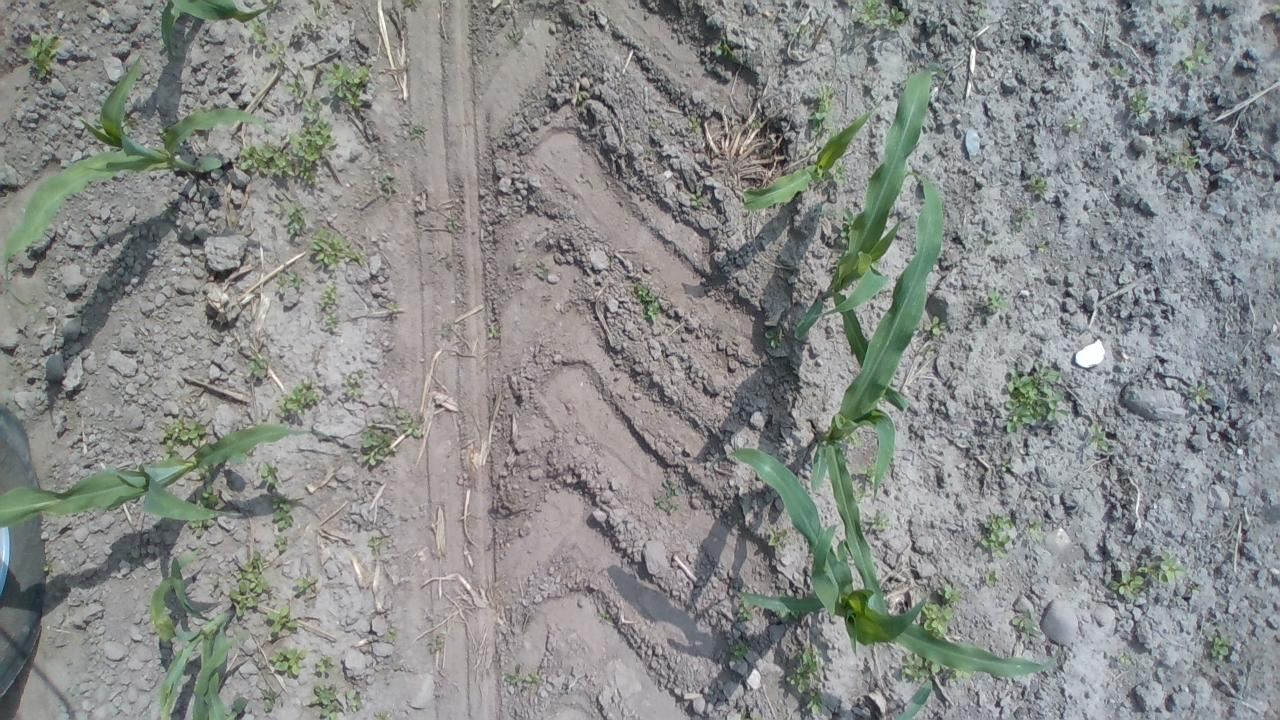Maize: (728, 448, 1064, 678), (0, 49, 269, 278), (811, 177, 946, 610), (797, 68, 934, 412), (1, 420, 350, 528), (150, 553, 249, 720), (739, 96, 882, 211), (159, 0, 268, 55), (209, 670, 247, 720), (895, 672, 934, 720)
Weeds: (1002, 363, 1069, 428), (289, 119, 337, 186), (229, 550, 272, 618), (307, 225, 366, 267), (320, 60, 370, 106), (237, 141, 292, 179), (161, 417, 208, 461), (785, 644, 824, 694), (24, 31, 62, 82), (1136, 551, 1188, 584), (278, 378, 320, 418), (854, 0, 906, 32), (979, 514, 1016, 558), (307, 679, 343, 720), (920, 602, 954, 642), (268, 646, 308, 679), (808, 86, 835, 132), (900, 652, 940, 682), (361, 431, 396, 465), (267, 606, 299, 640), (634, 283, 662, 321), (1108, 573, 1146, 601), (1168, 138, 1200, 169), (834, 206, 856, 248), (1011, 611, 1040, 640), (1182, 42, 1212, 70), (655, 480, 679, 514), (341, 368, 368, 396), (398, 407, 422, 438), (271, 496, 294, 528), (1086, 423, 1110, 452), (264, 38, 290, 64), (286, 201, 306, 234), (924, 315, 951, 339), (1208, 632, 1232, 659), (318, 280, 341, 308), (246, 354, 270, 380), (500, 672, 543, 686), (711, 42, 737, 64), (829, 160, 850, 187), (986, 289, 1010, 312), (1186, 385, 1214, 404), (198, 486, 220, 510), (248, 20, 268, 46), (260, 463, 280, 489), (949, 668, 977, 686), (766, 526, 787, 550), (805, 690, 826, 714), (188, 518, 214, 537), (1029, 175, 1050, 198), (856, 458, 874, 484), (764, 329, 787, 349), (302, 7, 328, 24), (302, 96, 322, 118), (938, 584, 962, 602), (1130, 90, 1148, 114), (283, 78, 305, 97), (1027, 519, 1045, 541), (294, 576, 316, 594), (160, 202, 178, 223), (316, 656, 339, 672), (346, 689, 362, 712), (261, 686, 274, 712), (688, 187, 704, 208), (408, 120, 426, 138), (270, 534, 288, 552), (274, 271, 288, 294), (850, 482, 866, 502), (848, 428, 864, 448), (1018, 208, 1034, 228), (379, 172, 396, 190), (870, 517, 889, 533), (198, 464, 218, 479), (737, 602, 753, 620), (730, 644, 748, 660), (931, 62, 947, 80), (1106, 66, 1128, 79), (93, 117, 108, 136), (1065, 119, 1081, 136), (368, 536, 384, 552), (156, 123, 170, 141), (688, 114, 701, 133), (1170, 15, 1186, 30), (504, 30, 520, 44), (120, 116, 131, 136), (324, 315, 338, 330), (984, 573, 999, 587), (288, 272, 300, 288), (792, 23, 806, 36), (1119, 652, 1132, 665), (974, 0, 984, 16), (430, 638, 442, 650), (1036, 241, 1048, 253), (386, 302, 400, 312), (448, 216, 459, 228), (487, 328, 500, 337), (598, 611, 611, 620), (266, 0, 280, 8), (573, 90, 584, 100), (387, 631, 398, 641), (406, 0, 418, 9), (42, 560, 51, 572), (262, 124, 272, 134), (749, 118, 759, 128), (1000, 463, 1009, 474), (376, 712, 388, 720), (1190, 586, 1200, 594), (1274, 4, 1280, 13)
